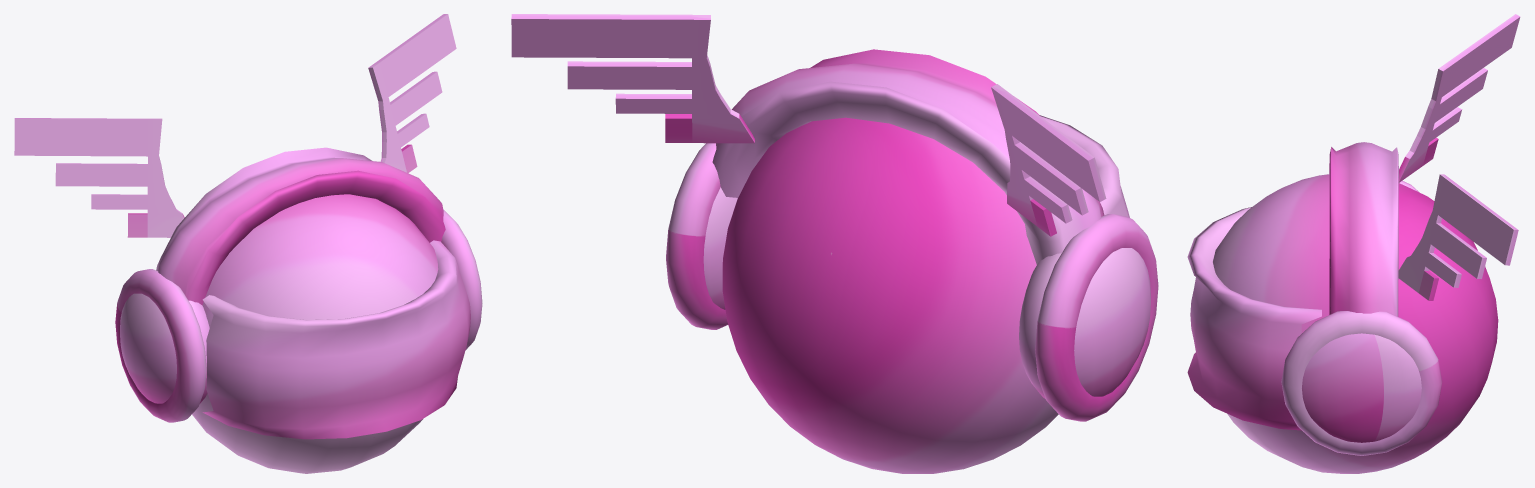
The model's file is airman_purple.fbx.
3 renders of one model, left to right at view 1: azimuth 30°, elevation 25°; view 2: azimuth 150°, elevation 25°; view 3: azimuth 270°, elevation 25°, orthographic. The views are drawn at different scales.
Parts seen in each view (by area): view 1: polySurface2; view 2: polySurface2; view 3: polySurface2.
Part boxes in pixels (bbox=[...]): polySurface2: bbox=[14, 14, 482, 473]; polySurface2: bbox=[511, 14, 1158, 473]; polySurface2: bbox=[1187, 14, 1520, 473].
Size of the model in its own units: 10.97 by 7.91 by 7.01.
Materials: 1 (1 with a texture image).
